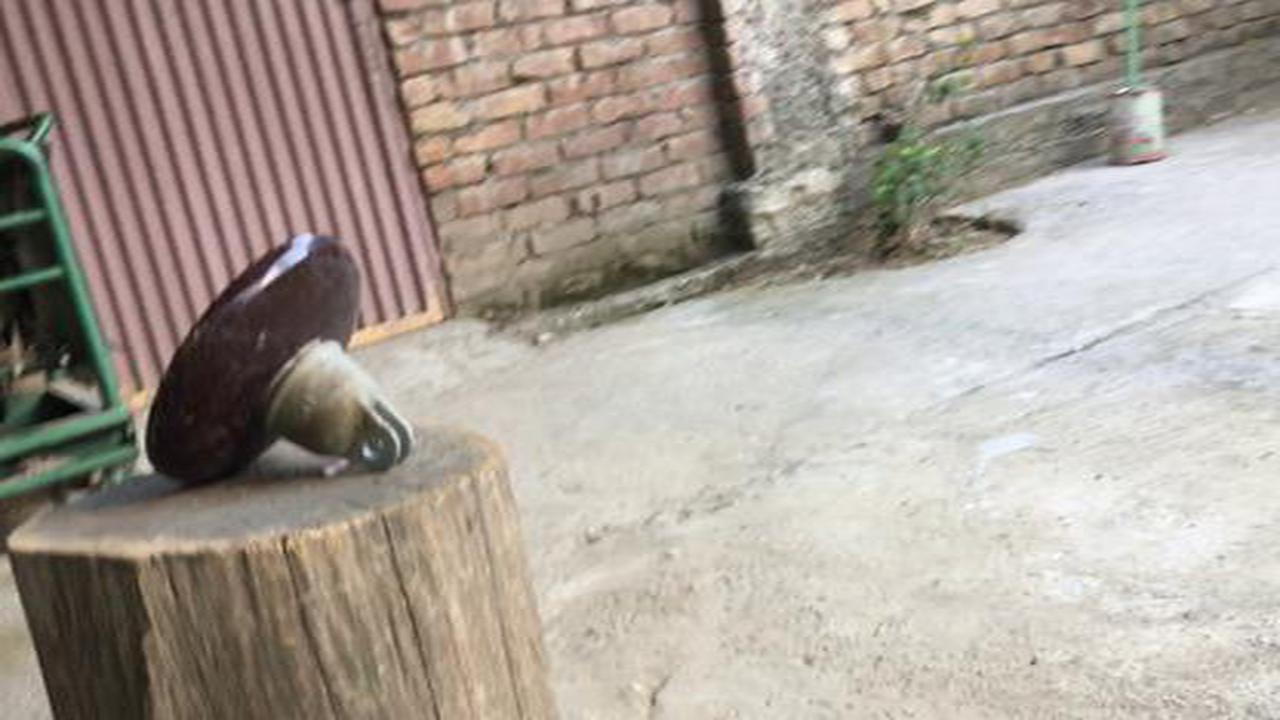insulator_disc: (139, 225, 420, 488)
